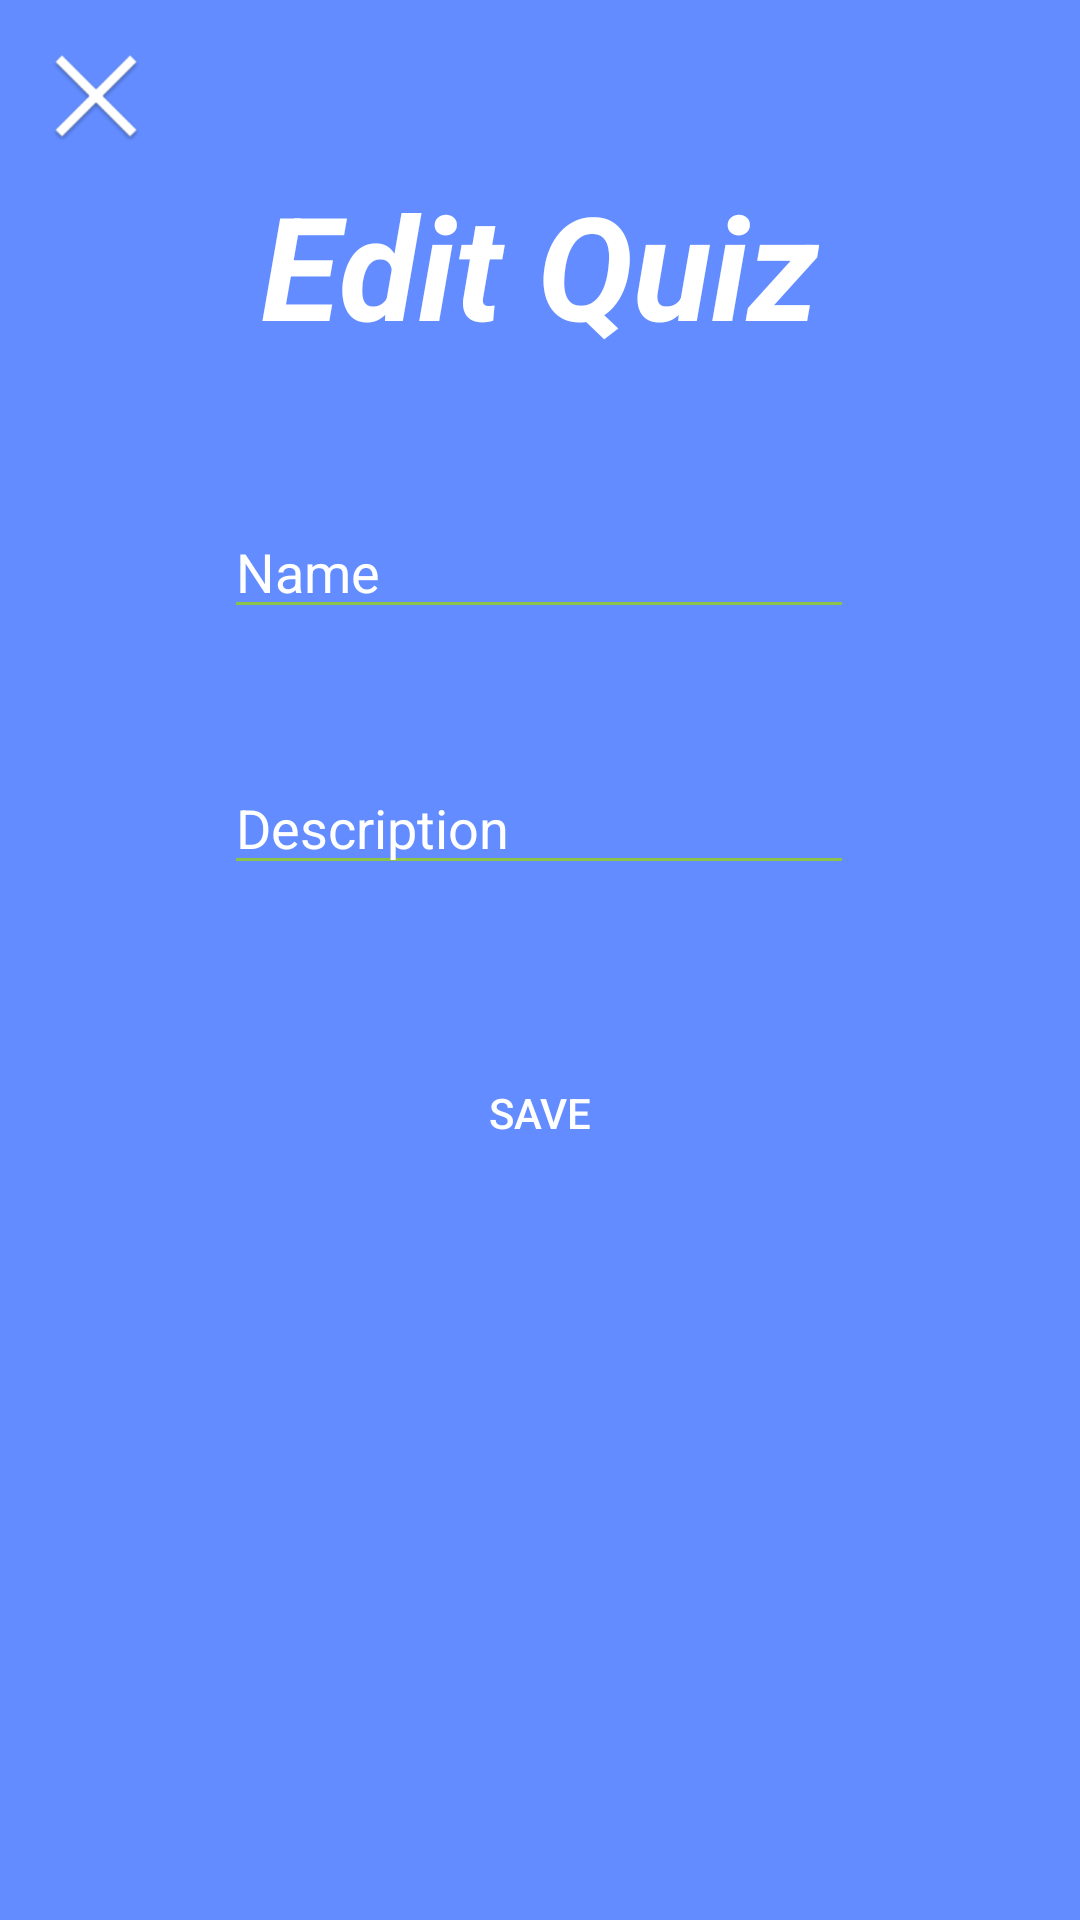

Named icons in this screenshot (1080px×1920px) and their centers, [x,y]:
exit: [96,96]
